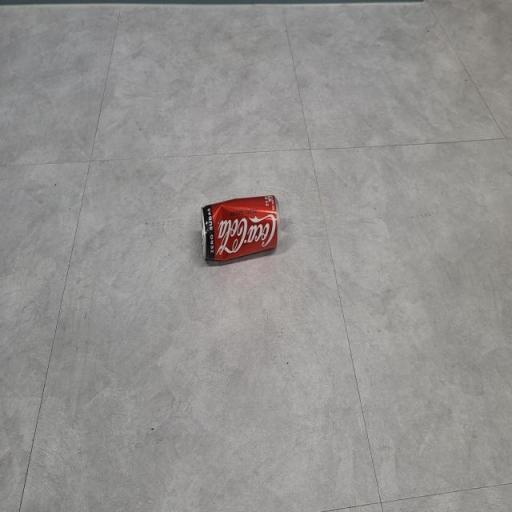metal: (194, 187, 284, 277)
